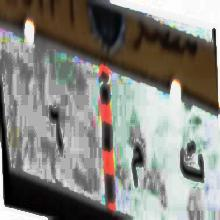6: (43, 98, 69, 166)
meem: (119, 132, 147, 204)
taa: (172, 134, 208, 192)
